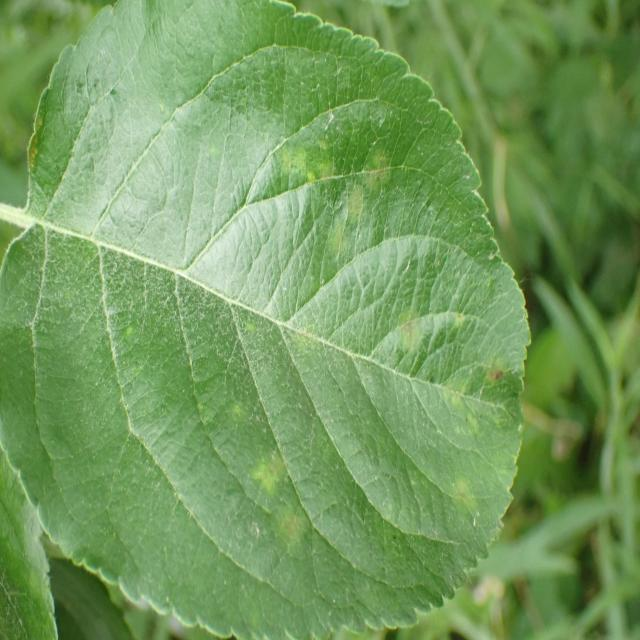scab: (1, 72, 538, 623)
